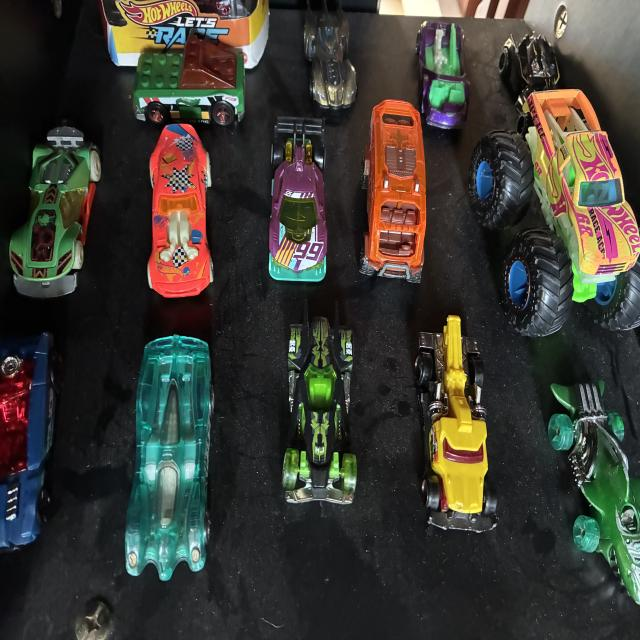cars: (125, 336, 213, 580), (416, 316, 496, 532), (282, 308, 357, 503), (364, 101, 426, 281), (149, 151, 210, 276), (272, 179, 316, 251), (276, 121, 324, 179)
